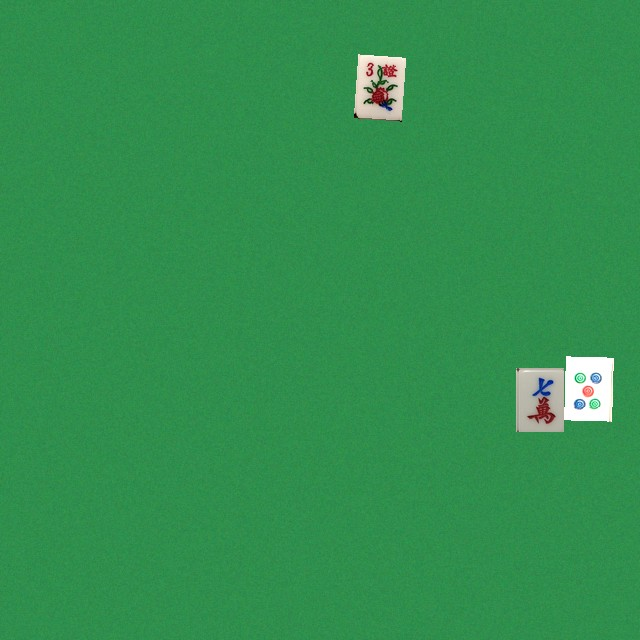tile: (515, 367, 563, 431), (564, 356, 612, 420), (353, 54, 401, 118)
